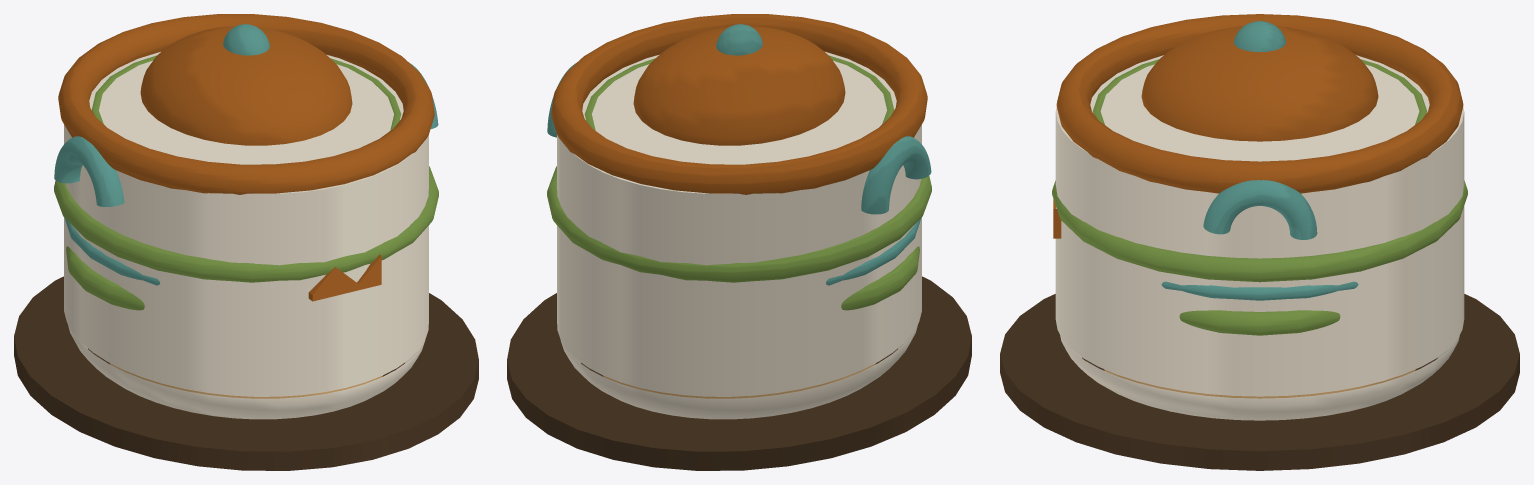
Rendered from 0258_世界古代文明图鉴_狮身人面像.glb.
3 views of the same model, side by side, from view 1: azimuth 30°, elevation 25°; view 2: azimuth 150°, elevation 25°; view 3: azimuth 270°, elevation 25° (orthographic). The views are drawn at different scales.
Visible parts, largest first — view 1: card_0258; view 2: card_0258; view 3: card_0258.
Part boxes in pixels (x1,y1,x2,y2): card_0258: [14, 14, 478, 470]; card_0258: [507, 14, 971, 470]; card_0258: [1000, 14, 1519, 470].
Bounding box in the file's own units: 1.15 × 1 × 1.29.
